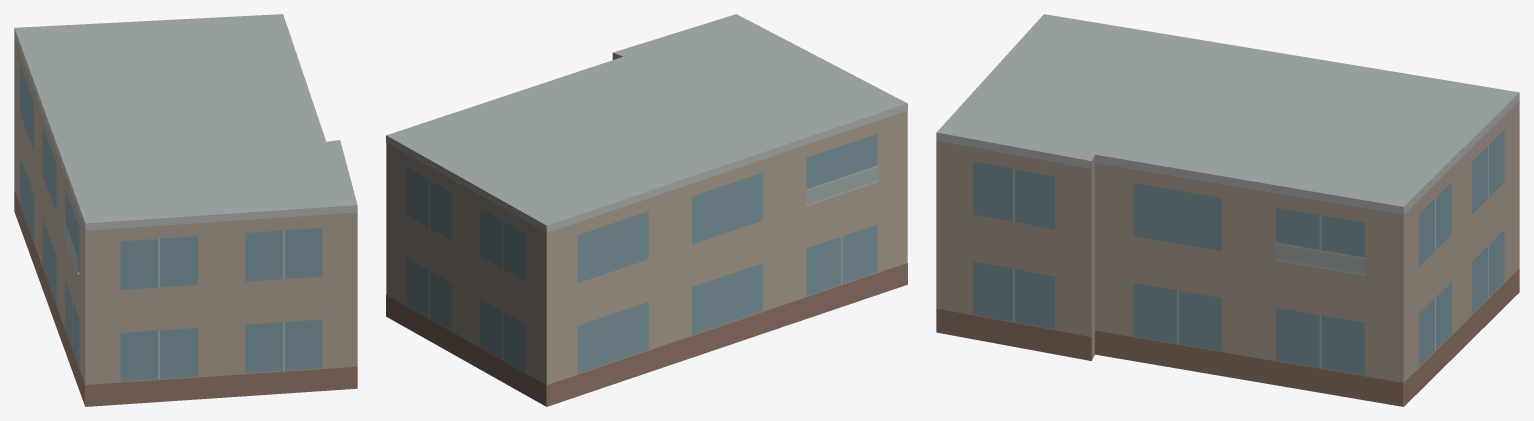
Rendered from survey-upis-33015050.glb.
The picture shows the model from 3 angles, left to right: view 1: azimuth 30°, elevation 25°; view 2: azimuth 150°, elevation 25°; view 3: azimuth 270°, elevation 25°; orthographic projection. The views are drawn at different scales.
Parts seen in each view (by area): view 1: survey-upis-33015050.tmp; view 2: survey-upis-33015050.tmp; view 3: survey-upis-33015050.tmp.
Boxes of the visible parts, x1=… form: survey-upis-33015050.tmp: x1=14, y1=14, x2=357, y2=406; survey-upis-33015050.tmp: x1=386, y1=14, x2=907, y2=406; survey-upis-33015050.tmp: x1=936, y1=14, x2=1519, y2=406.
Size of the model in its own units: 12.64 by 6.1 by 16.14.
